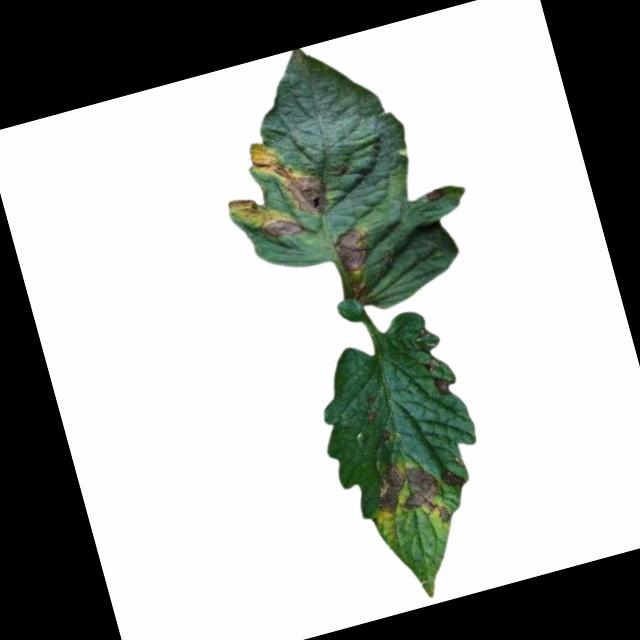Early_blight: (245, 124, 335, 228), (366, 450, 454, 540), (329, 223, 376, 275), (226, 188, 277, 229), (261, 210, 301, 241), (438, 462, 467, 493), (431, 372, 454, 398), (424, 184, 450, 202), (362, 407, 381, 426), (377, 427, 395, 444)
